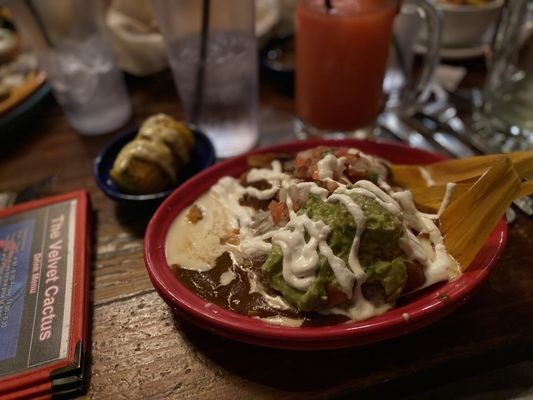curry: (299, 194, 359, 257)
sushi: (142, 138, 524, 350), (92, 116, 218, 211)
